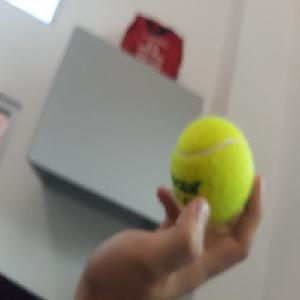Ball: (171, 115, 254, 222)
